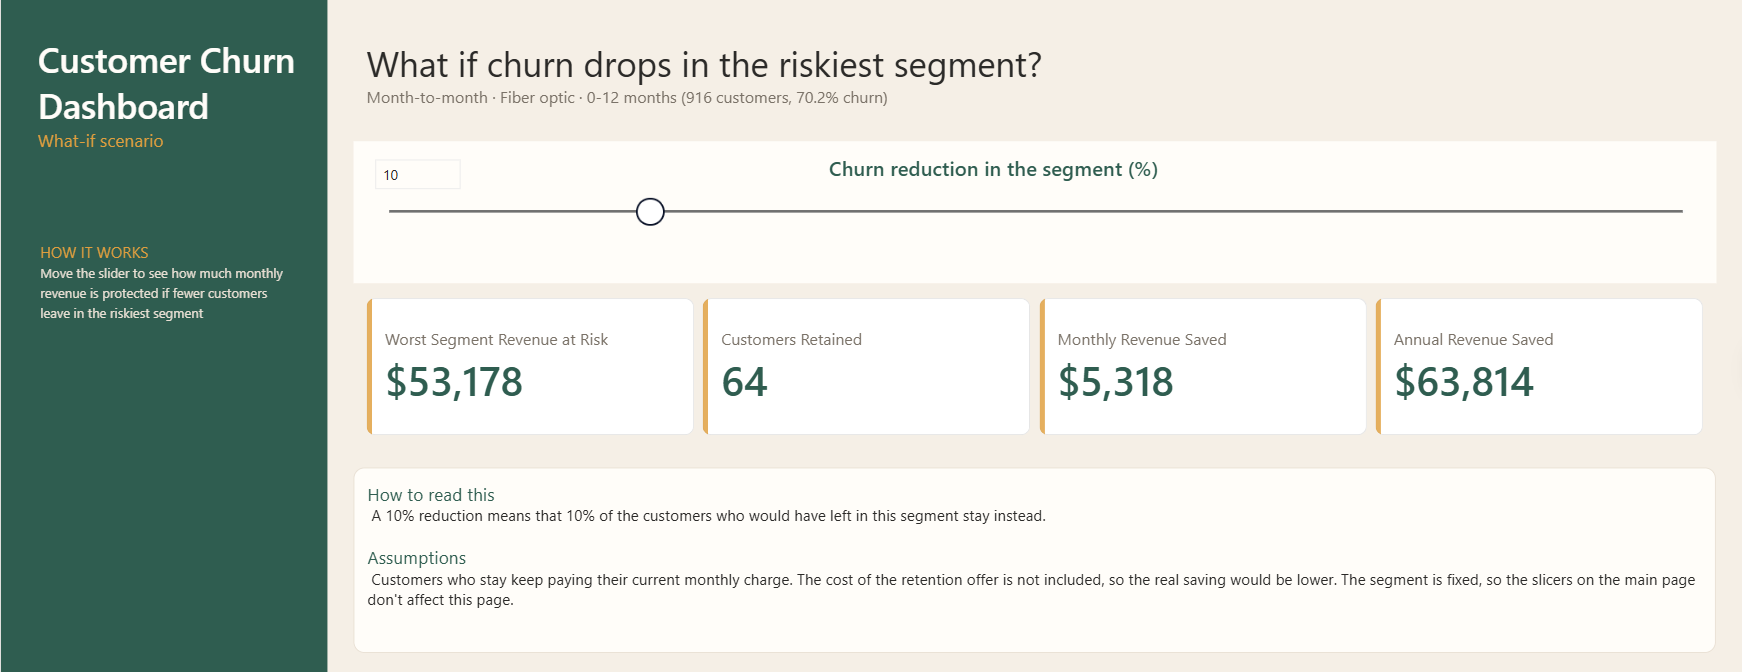

What the dashboard file says about the page in this screenshot:
{"tool":"powerbi","page":{"name":"What-if Scenario","canvas":[1600,620],"ordinal":2},"visuals":[{"type":"shape","box":[0,0,300,620],"z":0},{"type":"textbox","box":[21.8,20.3,277.6,189],"z":1},{"type":"textbox","box":[24,210,252,150],"z":2},{"type":"textbox","box":[324,24,1252,90],"z":3},{"type":"slicer","fields":{"Values":["Churn Reduction.Churn Reduction"]},"box":[324.1,130,1252,130],"z":4},{"type":"cardVisual","fields":{"Data":["Telco.Worst Segment Revenue at Risk","Telco.Customers Retained","Telco.Monthly Revenue Saved","Telco.Annual Revenue Saved"]},"box":[324,262,1252,150],"z":5},{"type":"textbox","box":[324,430,1252,170],"z":6},{"type":"textbox","box":[748.5,129.4,404.1,53.8],"z":7}]}

Visuals, with their boxes in screenshot pixels (x1, y1, x2, y2), scaled from the page's 1600x620 canvas onto the 1742x672 screenshot:
shape: (0,0,327,671)
textbox: (24,22,326,227)
textbox: (26,228,300,390)
textbox: (353,26,1716,124)
slicer - Churn Reduction.Churn Reduction: (353,141,1716,282)
cardVisual - Telco.Worst Segment Revenue at Risk x Telco.Customers Retained: (353,284,1716,447)
textbox: (353,466,1716,650)
textbox: (815,140,1255,199)
